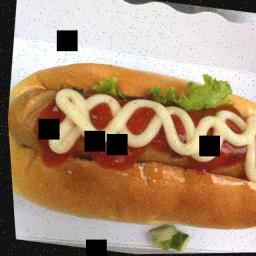hotdog: (4, 78, 256, 180)
